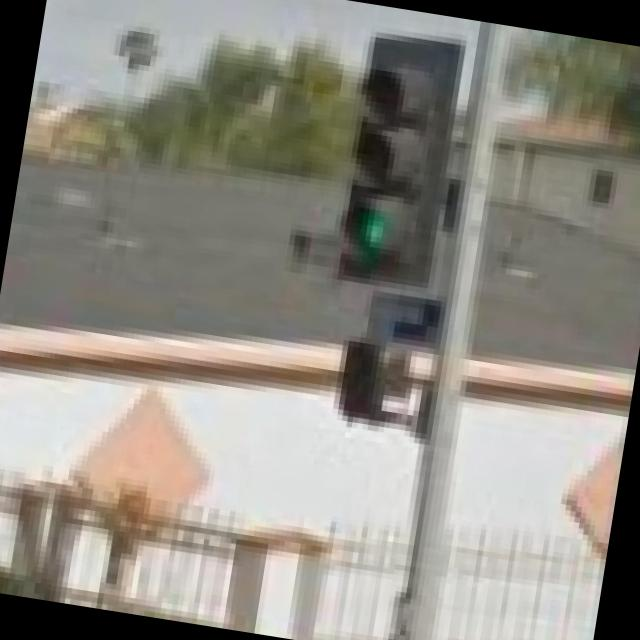green-lights: (308, 186, 442, 284)
